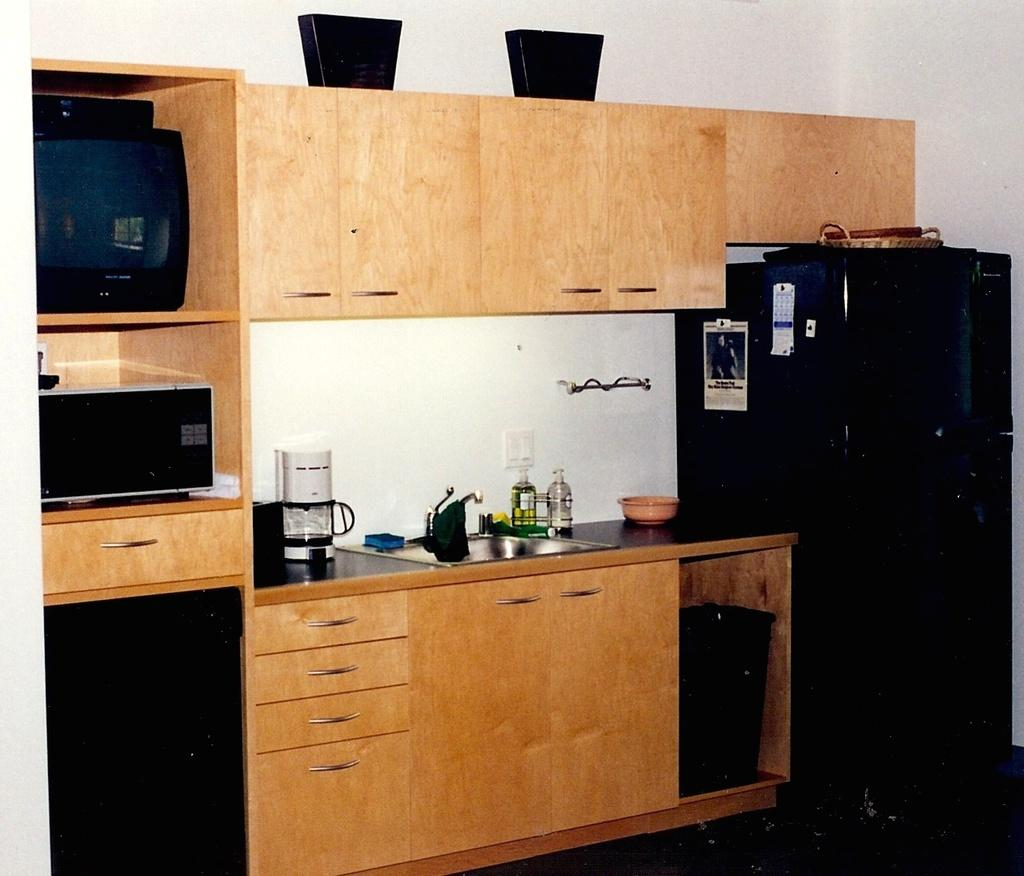cabinet_door: (418, 594, 544, 840), (554, 574, 676, 796), (352, 93, 478, 306), (476, 96, 606, 302), (606, 106, 722, 303), (252, 83, 342, 303), (267, 752, 407, 858), (47, 516, 241, 578), (264, 602, 402, 651), (268, 653, 404, 691), (270, 694, 406, 732)
handle: (102, 524, 154, 552), (310, 652, 354, 684), (350, 287, 400, 313), (306, 606, 358, 629), (285, 284, 331, 310), (314, 710, 358, 734), (558, 280, 604, 302), (311, 756, 360, 776), (492, 595, 542, 614), (557, 582, 596, 604), (614, 278, 652, 294)
